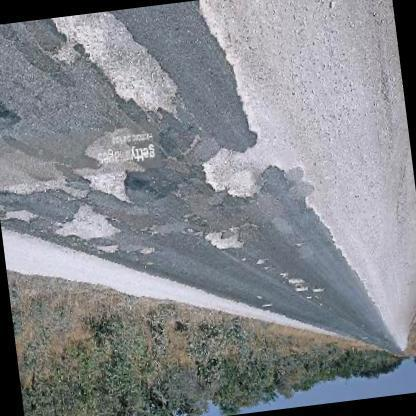pothole: (50, 12, 180, 118), (80, 132, 148, 204), (198, 144, 273, 201), (52, 201, 122, 245), (2, 174, 76, 200), (203, 225, 247, 251), (0, 209, 46, 225), (98, 242, 126, 254)
